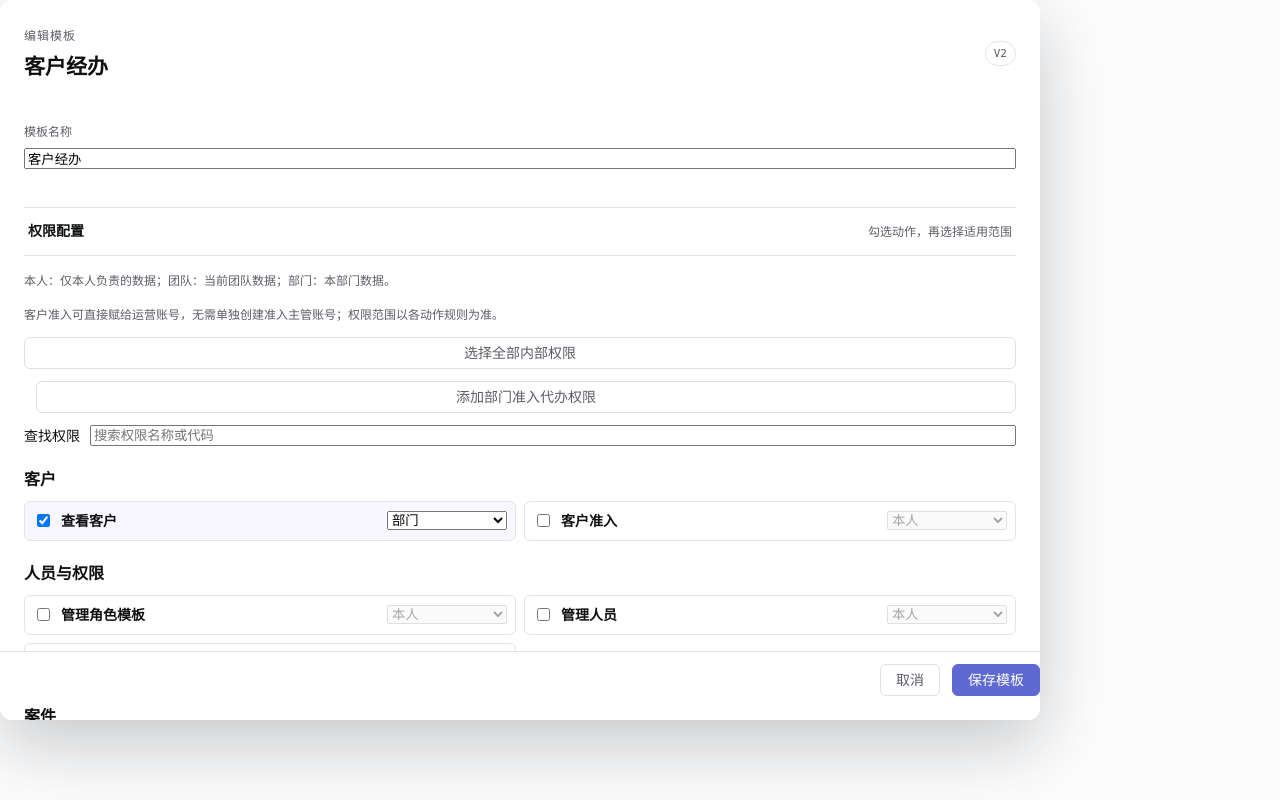
Test case: RoleTemplateEditor › keeps edit input after a version conflict
Replace the text in the field with test id "role-template-name" with "我的修改" at (520, 159), box [24,148,1016,169]
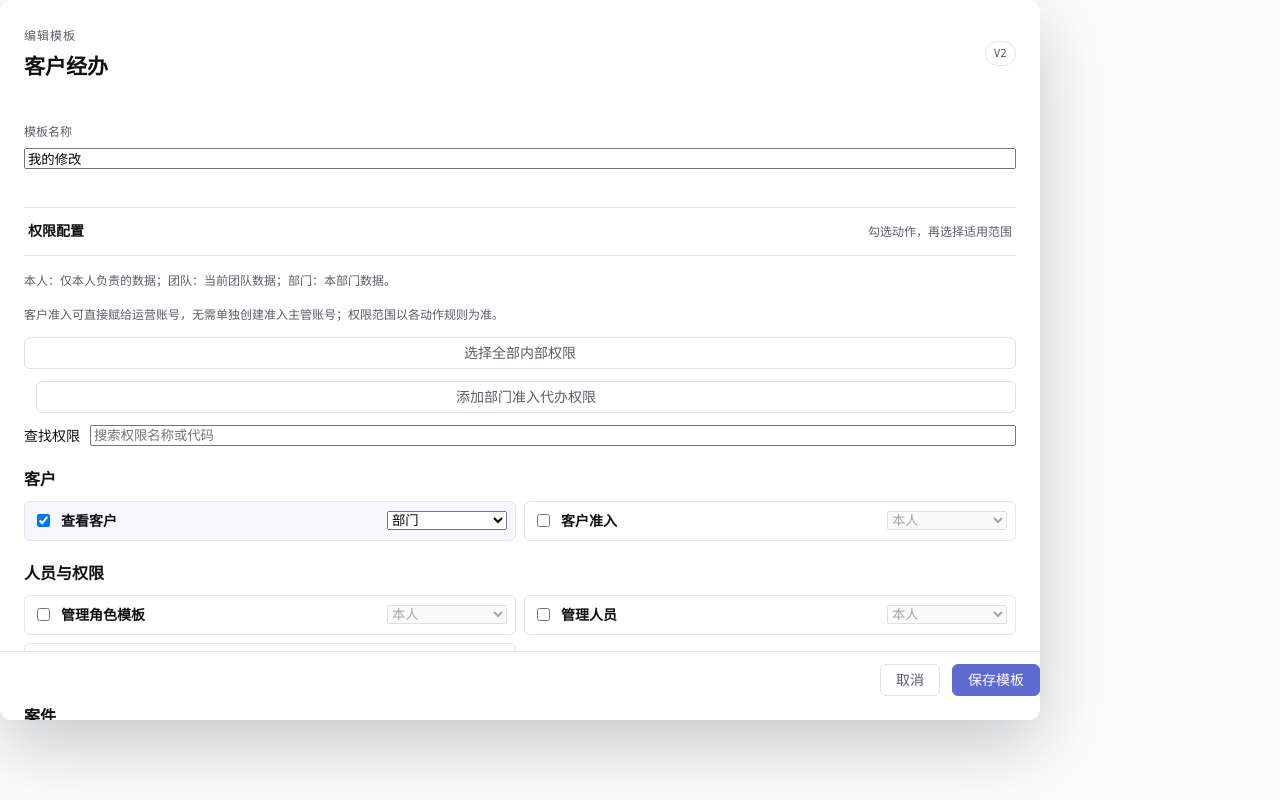
Click the button with test id "role-template-save".
click(996, 680)  # box [952,664,1040,696]
(page scrolled)
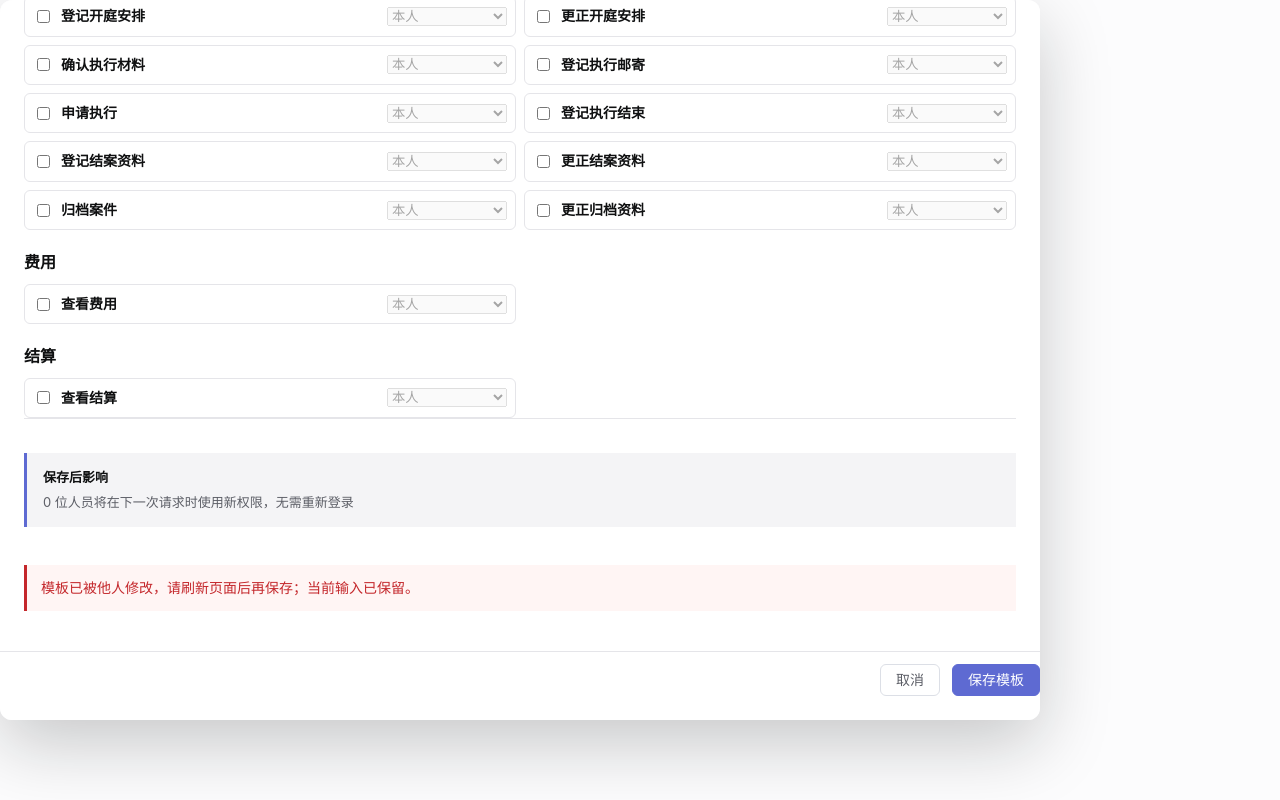
Check: the message "模板已被他人修改，请刷新页面后再保存；当前输入已保留。" is shown, box [24,565,1016,611]
